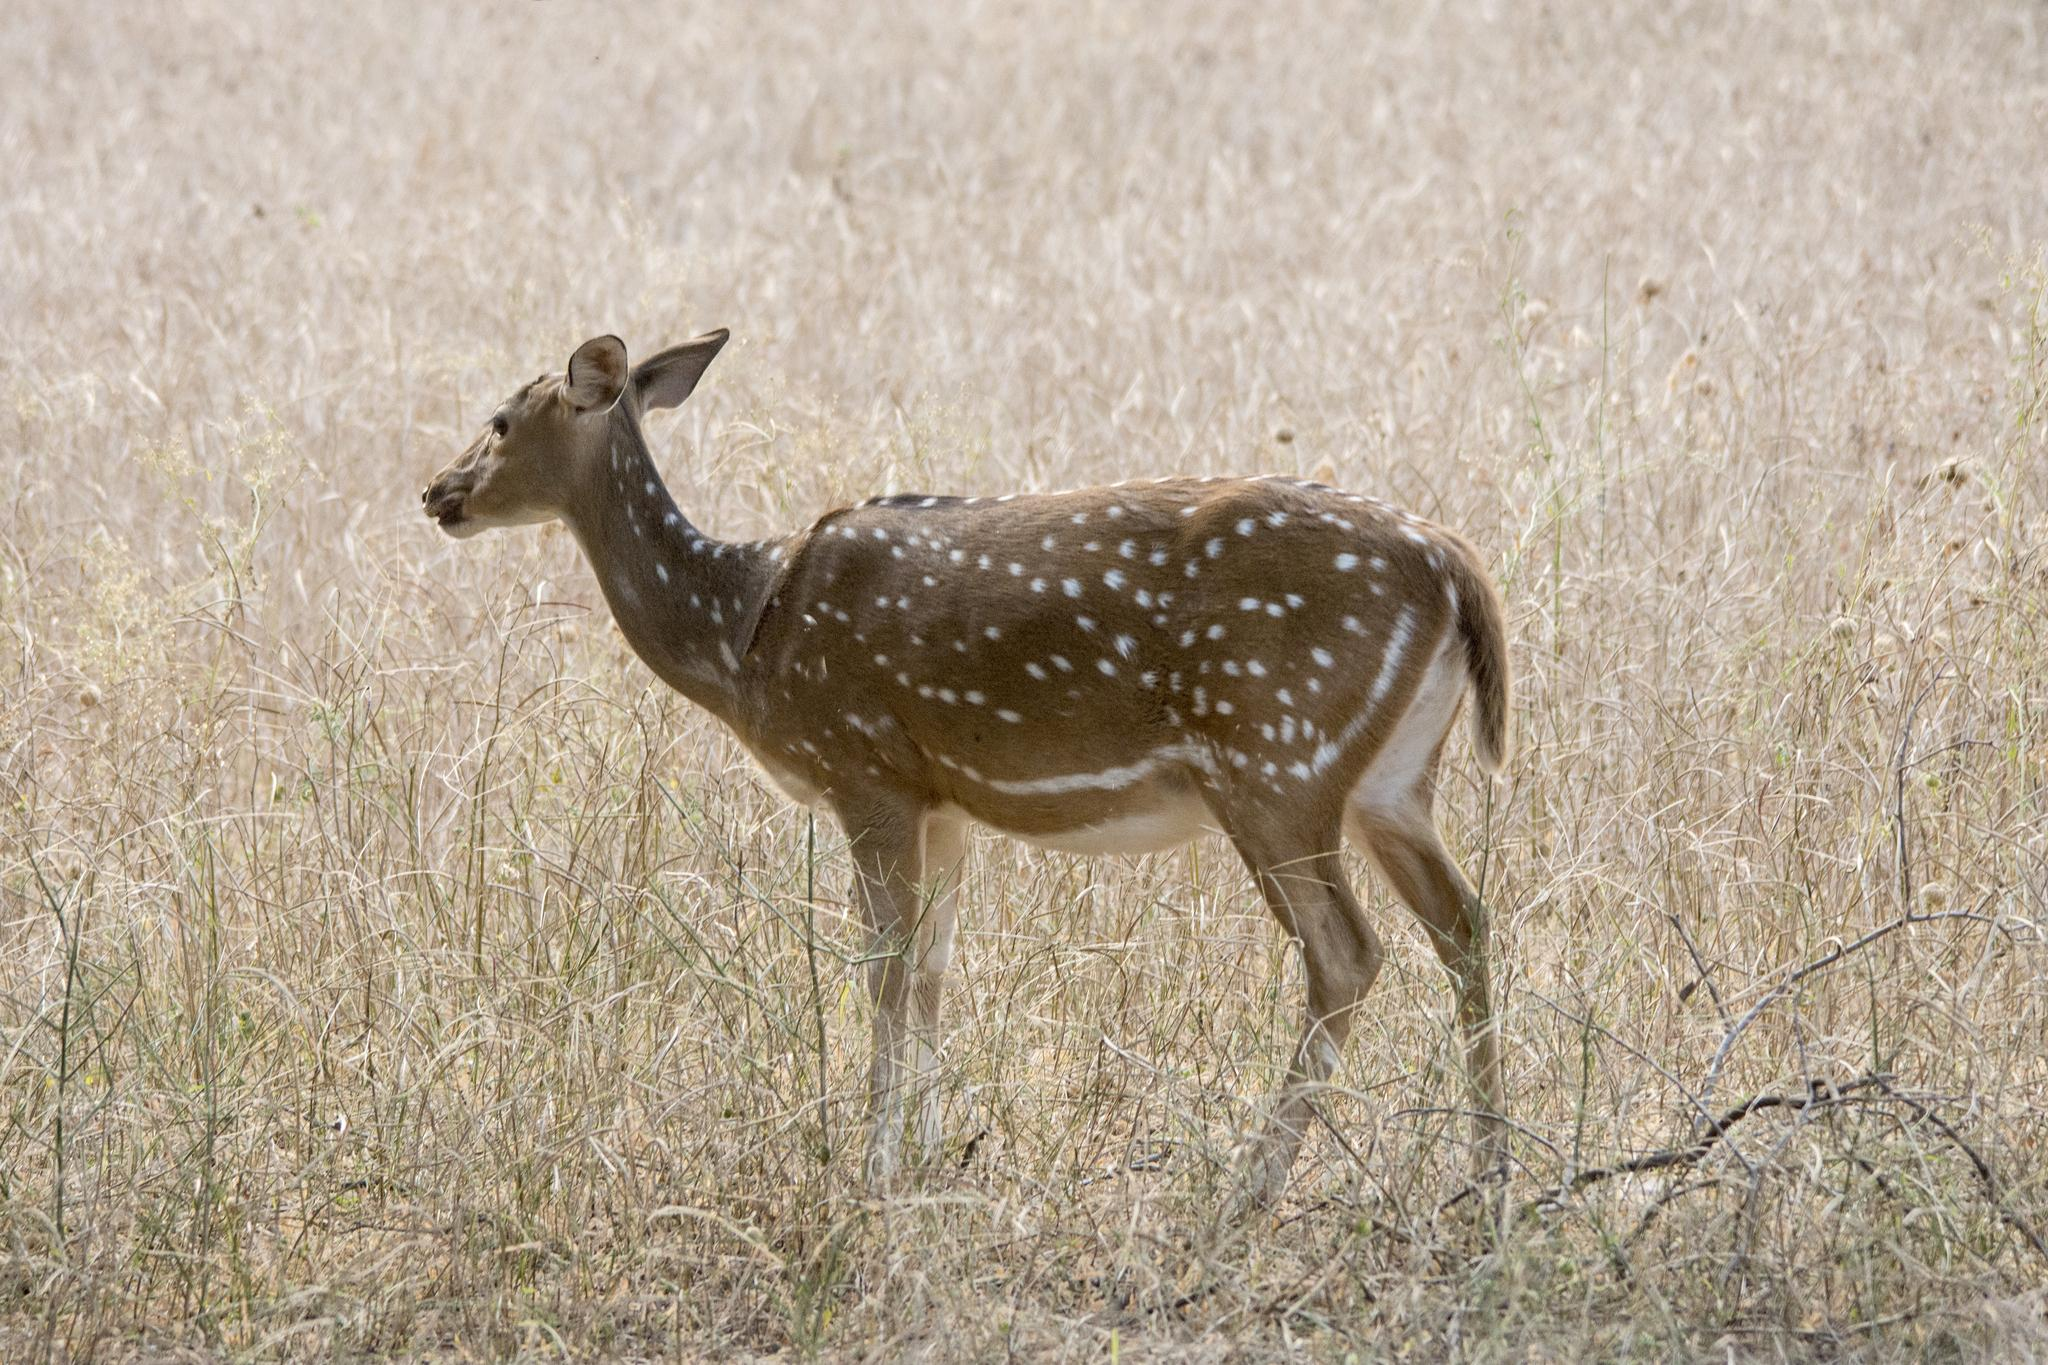Deer: (423, 331, 1509, 1194)
